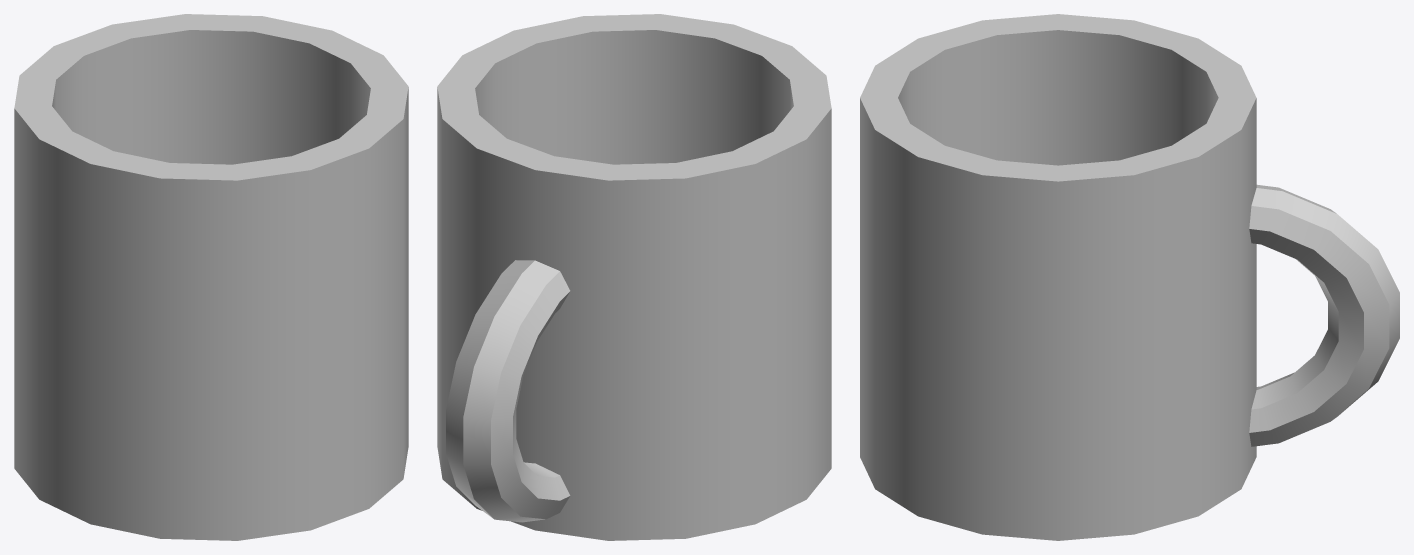
The model's file is mug.fbx.
3 renders of one model, left to right at view 1: azimuth 30°, elevation 25°; view 2: azimuth 150°, elevation 25°; view 3: azimuth 270°, elevation 25°, orthographic.
Parts seen in each view (by area): view 1: mug; view 2: mug; view 3: mug.
Boxes of the visible parts, <box> form: mug: <box>14,14,408,540</box>; mug: <box>437,14,831,540</box>; mug: <box>860,14,1399,540</box>.
Size of the model in its own units: 8.66 by 11.79 by 8.66.
